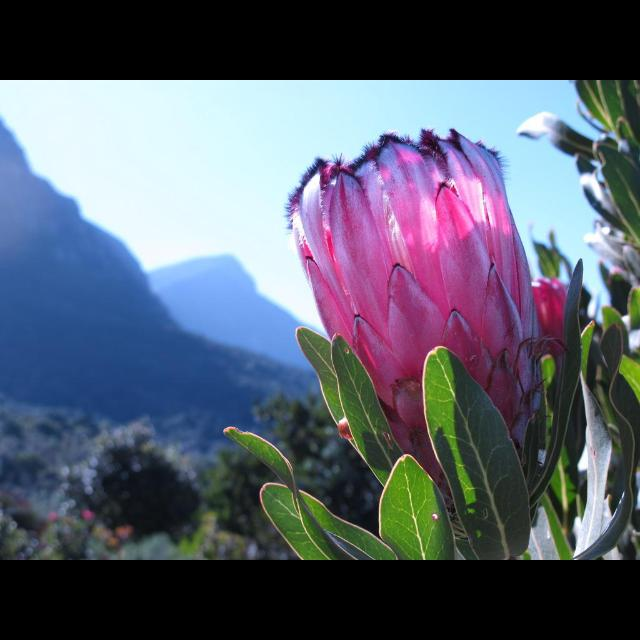Flower: (271, 130, 561, 474)
